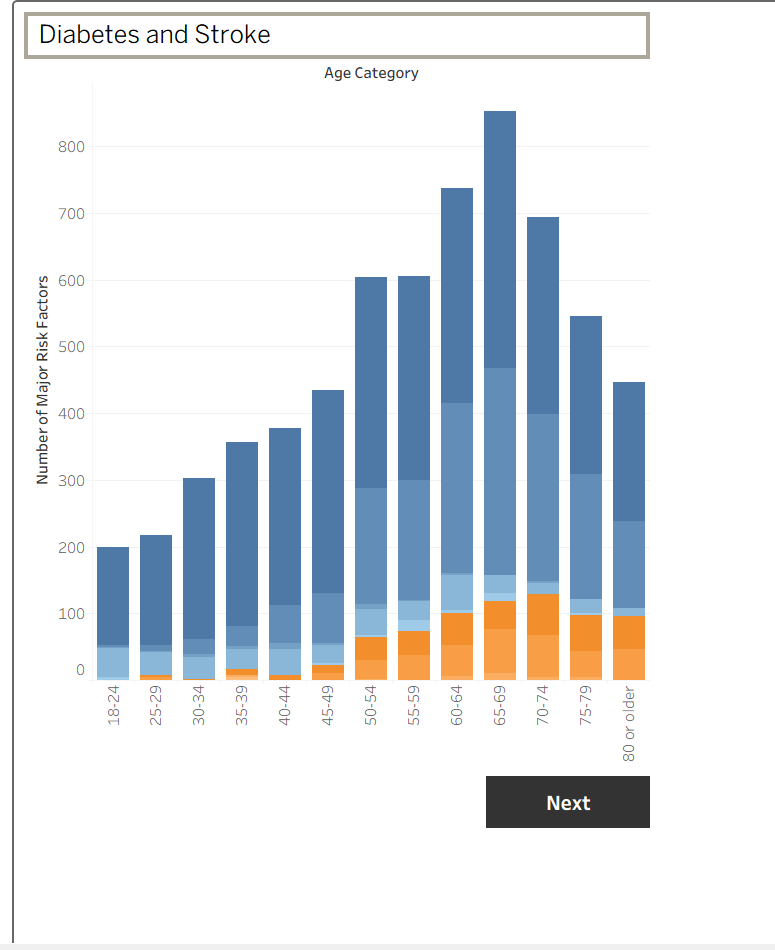

Layout of this report page (visuals, bound fields, positions):
{"tool":"tableau","page":{"name":"Dashboard 2","canvas":[650,860],"ordinal":1},"visuals":[{"type":"worksheet","title":"Sheet 2","mark":"Automatic","rows":["heart_disease.json_9A09AF1984E34AAE87238DDB25B564FF"],"cols":["AlcoholDrinking","AgeCategory"],"box":[8,8.5,634,843.1]},{"type":"dashboard-object","box":[463,781.3,164,56.5]}]}

Visuals, with their boxes on the page's 650x860 design canvas (x1, y1, x2, y2). These are canvas units, not pixel positions in the 775x950 screenshot, which may show the page scaled, cropped or inside an application window:
"Sheet 2" worksheet: [8,8,642,852]
dashboard-object: [463,781,627,838]
